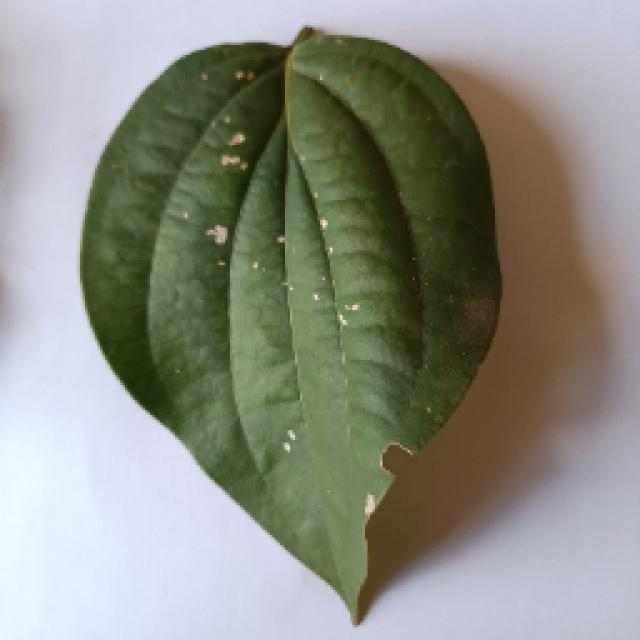pollu-disease: (77, 28, 495, 620)
